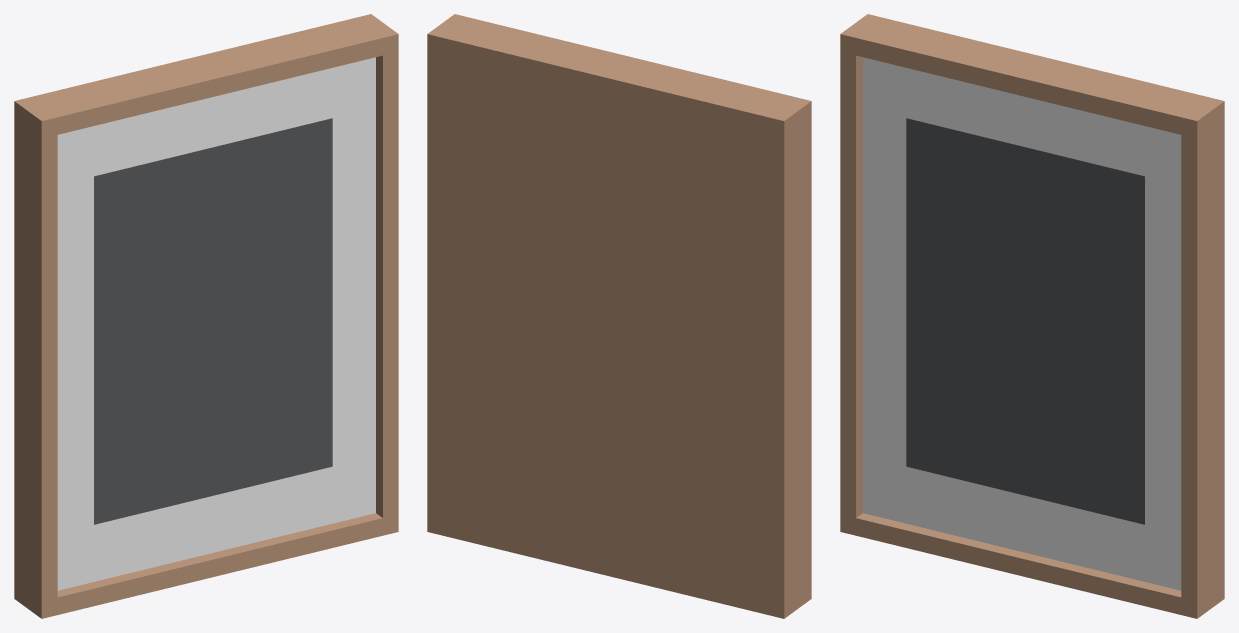
Rendered from Frame_30x40.fbx.
3 renders of one model, left to right at view 1: azimuth 30°, elevation 25°; view 2: azimuth 150°, elevation 25°; view 3: azimuth 330°, elevation 25°, orthographic.
Visible parts, largest first — view 1: Frame_30x40; view 2: Frame_30x40; view 3: Frame_30x40.
Part boxes in pixels (<box>): Frame_30x40: <box>14,14,398,618</box>; Frame_30x40: <box>427,14,811,618</box>; Frame_30x40: <box>840,14,1224,618</box>.
Size of the model in its own units: 0.3002 by 0.4001 by 0.04.
